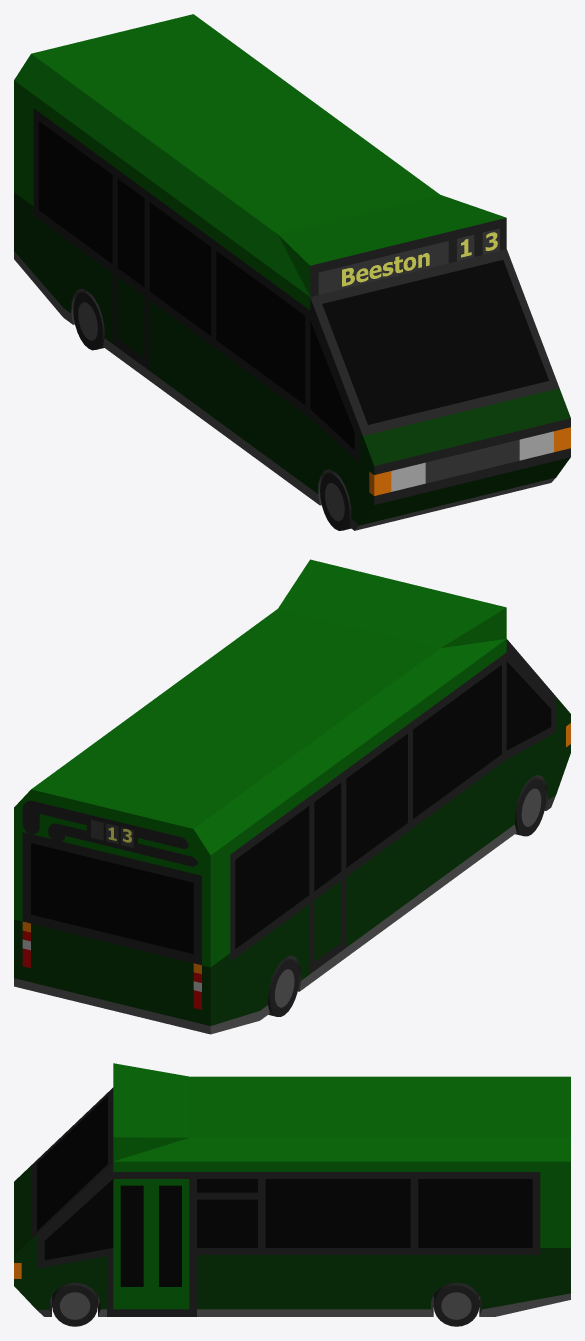
File: metrorider1.dae
3 renders of one model, top to bottom at view 1: azimuth 30°, elevation 25°; view 2: azimuth 150°, elevation 25°; view 3: azimuth 270°, elevation 25°, orthographic. The views are drawn at different scales.
Visible parts, largest first — view 1: SketchUp (×21); view 2: SketchUp (×16); view 3: SketchUp (×19).
Part boxes in pixels (x1,y1,x2,y2): SketchUp (×21): [14, 14, 570, 530]; SketchUp (×16): [14, 559, 570, 1034]; SketchUp (×19): [14, 1063, 570, 1326].
Bounding box in the file's own units: 90.55 × 287 × 108.
